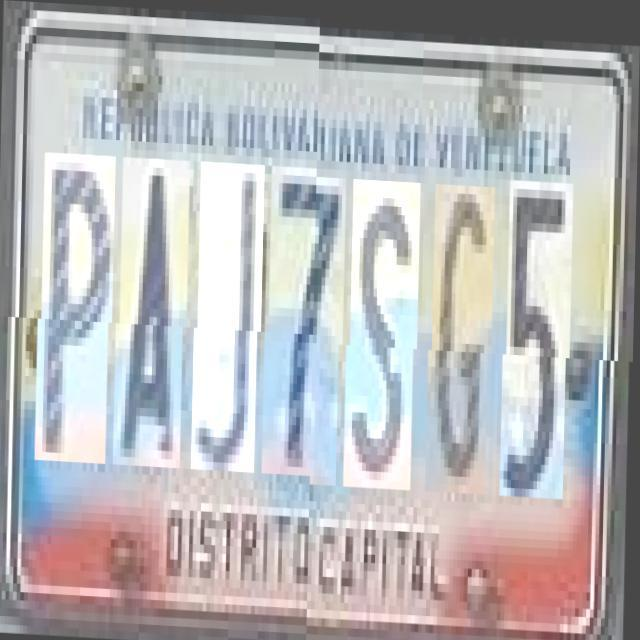5: (505, 173, 574, 492)
7: (267, 170, 347, 482)
A: (118, 163, 190, 474)
G: (431, 178, 496, 488)
J: (197, 168, 266, 478)
P: (40, 160, 116, 471)
S: (349, 174, 421, 485)
